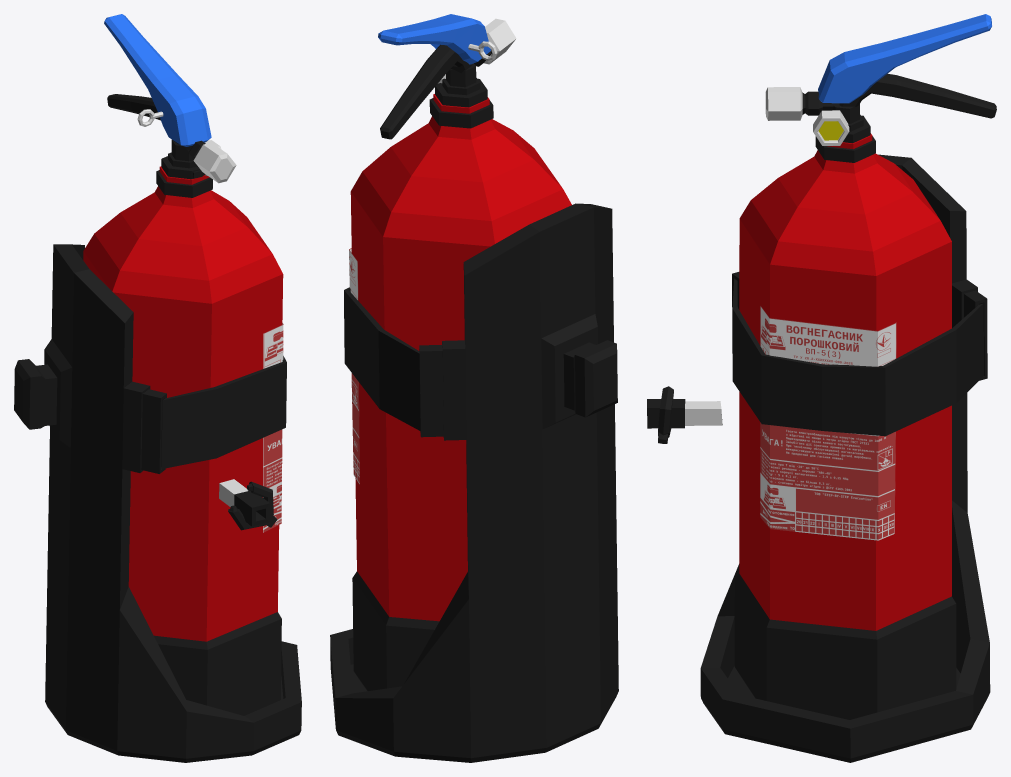
3 renders of one model, left to right at view 1: azimuth 30°, elevation 25°; view 2: azimuth 150°, elevation 25°; view 3: azimuth 270°, elevation 25°, orthographic. The views are drawn at different scales.
Visible parts, largest first — view 1: ExtinguisherHolder, Extinguisher, Handle, sticker, HoseEnd; view 2: ExtinguisherHolder, Extinguisher, Handle, sticker; view 3: Extinguisher, ExtinguisherHolder, sticker, Handle, HoseEnd.
Part boxes in pixels (x1,y1,x2,y2): ExtinguisherHolder: [14, 244, 301, 762]; Extinguisher: [83, 94, 283, 715]; Handle: [104, 14, 211, 146]; sticker: [263, 323, 283, 532]; HoseEnd: [219, 479, 277, 530]; ExtinguisherHolder: [330, 203, 618, 762]; Extinguisher: [350, 18, 571, 691]; Handle: [378, 14, 490, 64]; sticker: [349, 248, 359, 484]; Extinguisher: [734, 73, 996, 719]; ExtinguisherHolder: [700, 154, 990, 762]; sticker: [760, 306, 896, 540]; Handle: [818, 14, 991, 103]; HoseEnd: [647, 386, 722, 443].
Bounding box in the file's own units: 1.6 × 3.73 × 1.72.
Materials: 11 (1 with a texture image).
